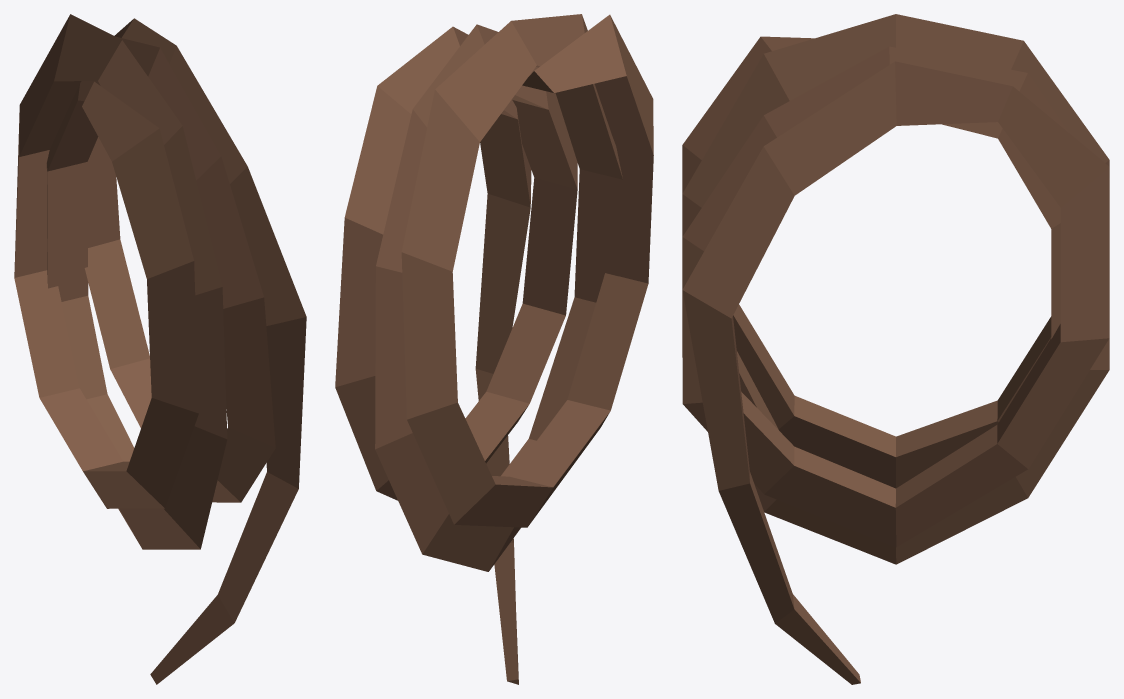
The model's file is SM_Chr_Attach_Whip_01.glb.
The picture shows the model from 3 angles, left to right: view 1: azimuth 30°, elevation 25°; view 2: azimuth 150°, elevation 25°; view 3: azimuth 270°, elevation 25°; orthographic projection. The views are drawn at different scales.
Parts seen in each view (by area): view 1: SM_Chr_Attach_Whip_01; view 2: SM_Chr_Attach_Whip_01; view 3: SM_Chr_Attach_Whip_01.
Boxes of the visible parts, left/top/right/bottom form: SM_Chr_Attach_Whip_01: left=14, top=14, right=306, bottom=684; SM_Chr_Attach_Whip_01: left=335, top=14, right=653, bottom=684; SM_Chr_Attach_Whip_01: left=682, top=14, right=1109, bottom=684.
Size of the model in its own units: 0.0917 by 0.3446 by 0.2009.
1 material, 1 textured.
